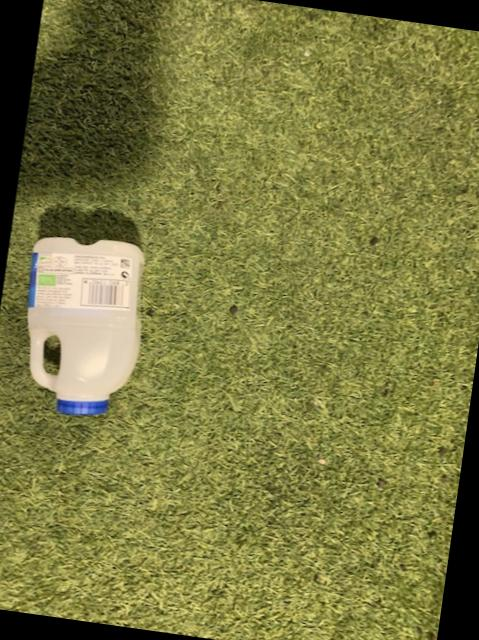plastic: (26, 238, 141, 414)
